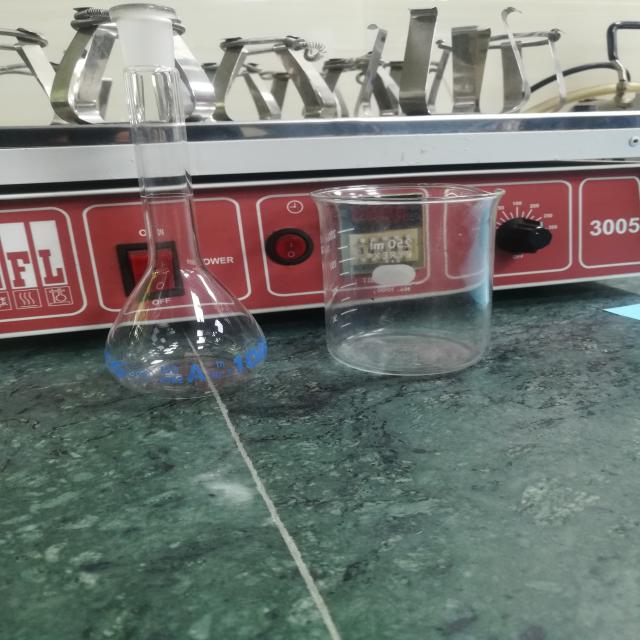Beaker: (302, 147, 526, 397)
Volumetric_Flask: (48, 0, 287, 407)
